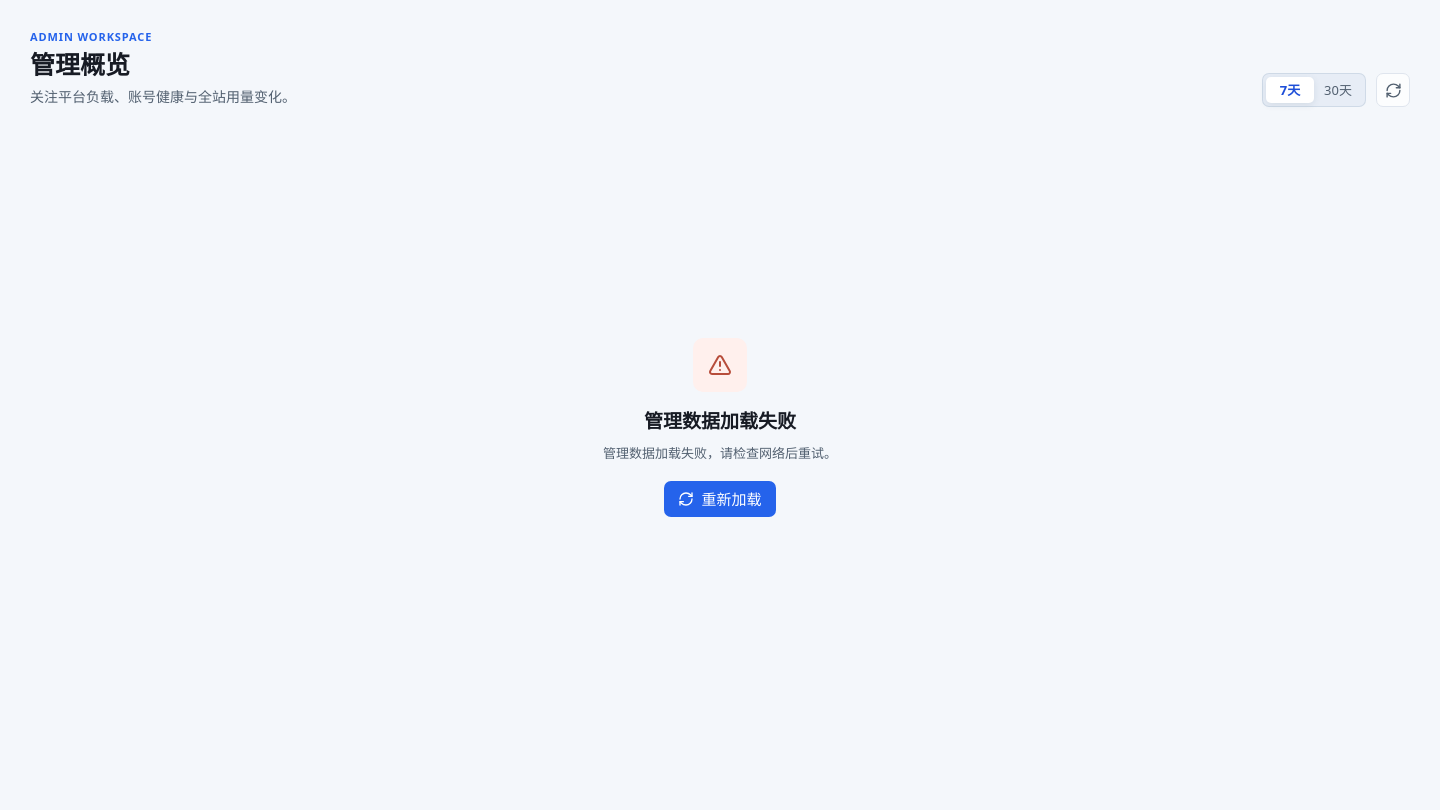
Test: AdminDashboardView › offers a retry when the core snapshot fails
Expected: the element with test id "admin-dashboard-error" shows "管理数据加载失败", [644,408,796,434]
Click the button with test id "retry-dashboard".
click(720, 499)  # box [664,481,776,517]
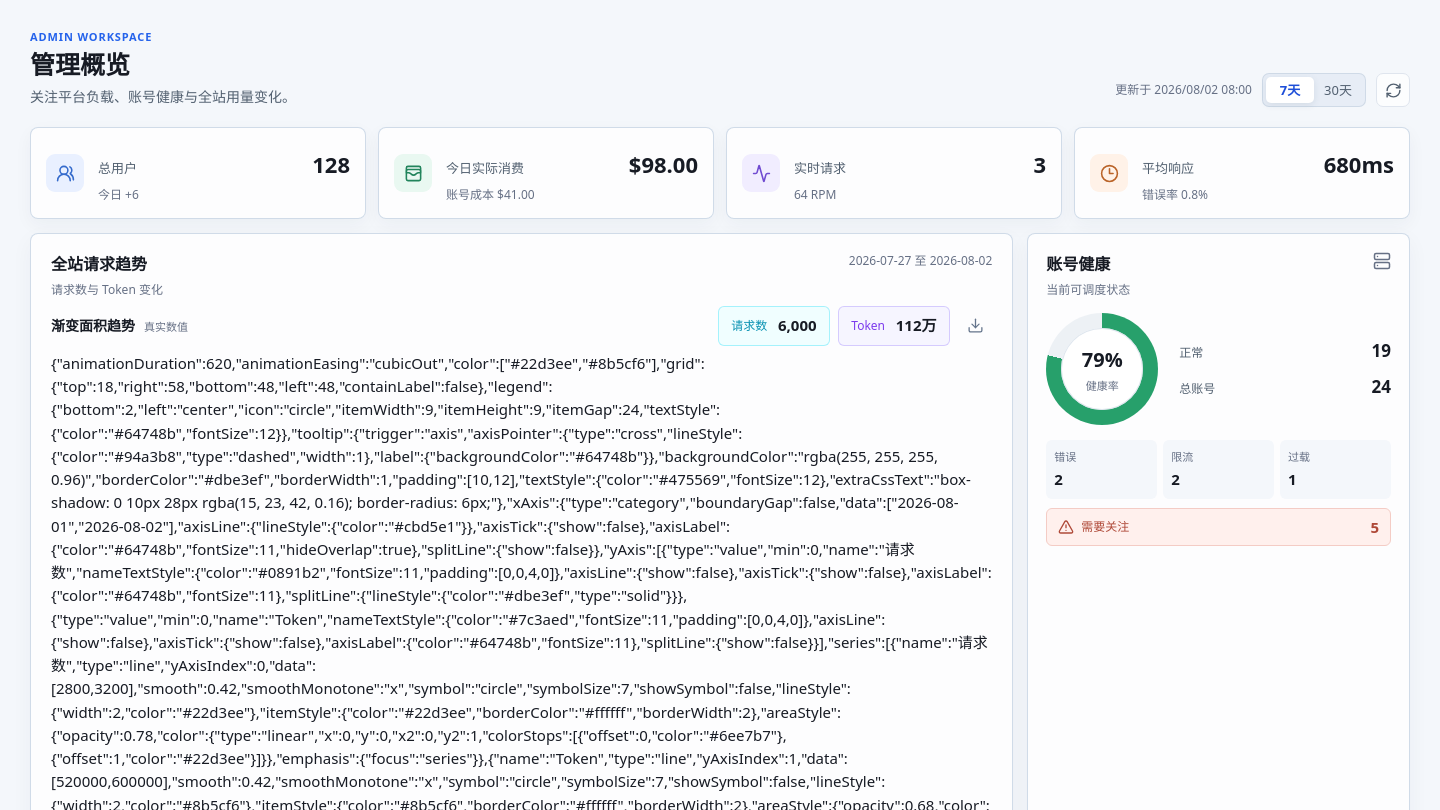
Expected: the element with test id "metric-users" shows "128", [312,149,350,179]
